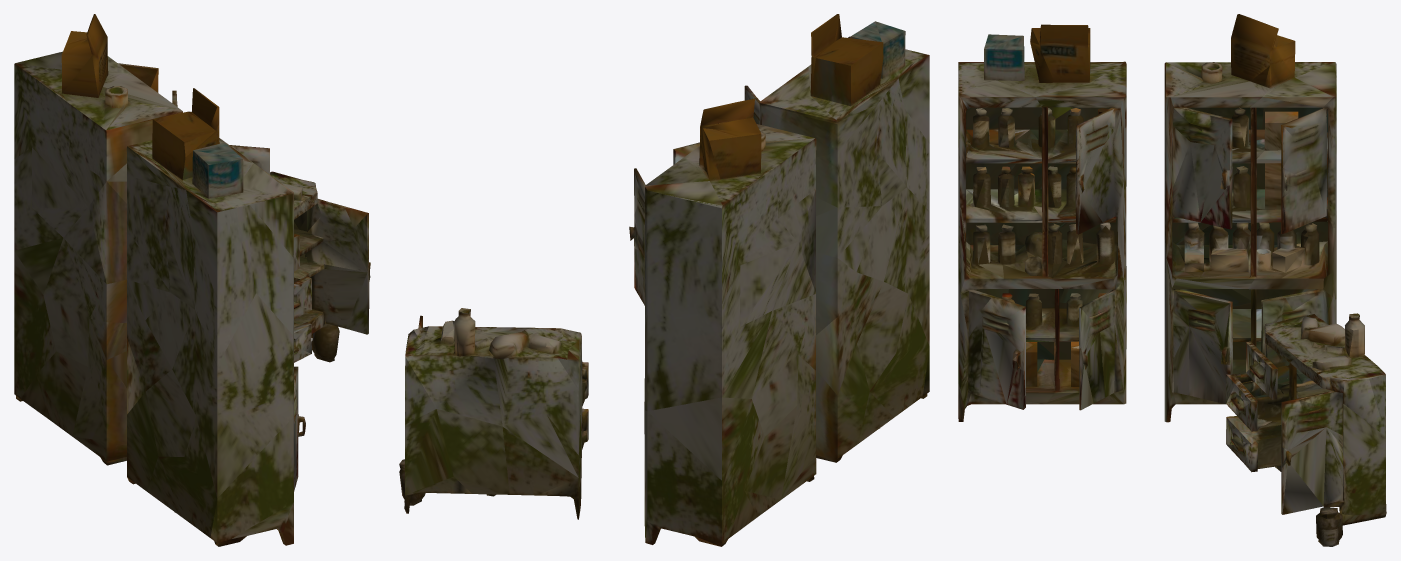
Rendered from estantesfbx.fbx.
3 views of the same model, side by side, from view 1: azimuth 30°, elevation 25°; view 2: azimuth 150°, elevation 25°; view 3: azimuth 270°, elevation 25° (orthographic). The views are drawn at different scales.
Visible parts, largest first — view 1: tripo_node_cbe4e861; view 2: tripo_node_cbe4e861; view 3: tripo_node_cbe4e861.
Part boxes in pixels (x1,y1,x2,y2): tripo_node_cbe4e861: (14,14,370,546); tripo_node_cbe4e861: (399,14,929,546); tripo_node_cbe4e861: (958,14,1386,546).
Bounding box in the file's own units: 80.54 × 99.98 × 97.03.
